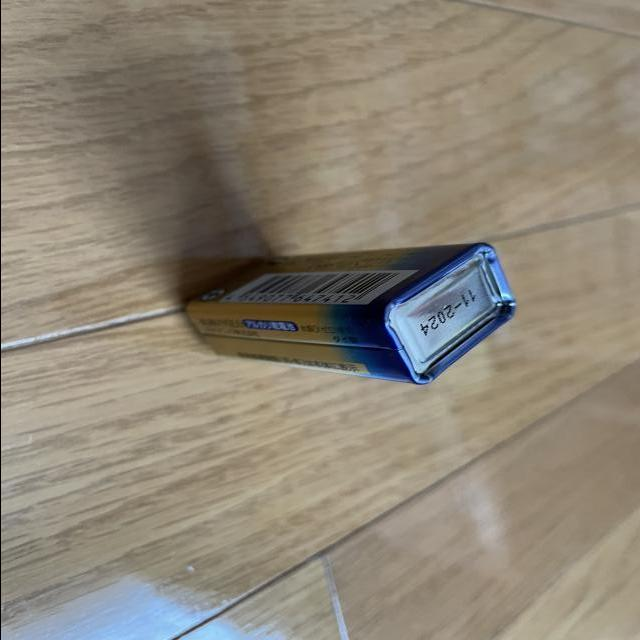9V: (183, 243, 518, 385)
